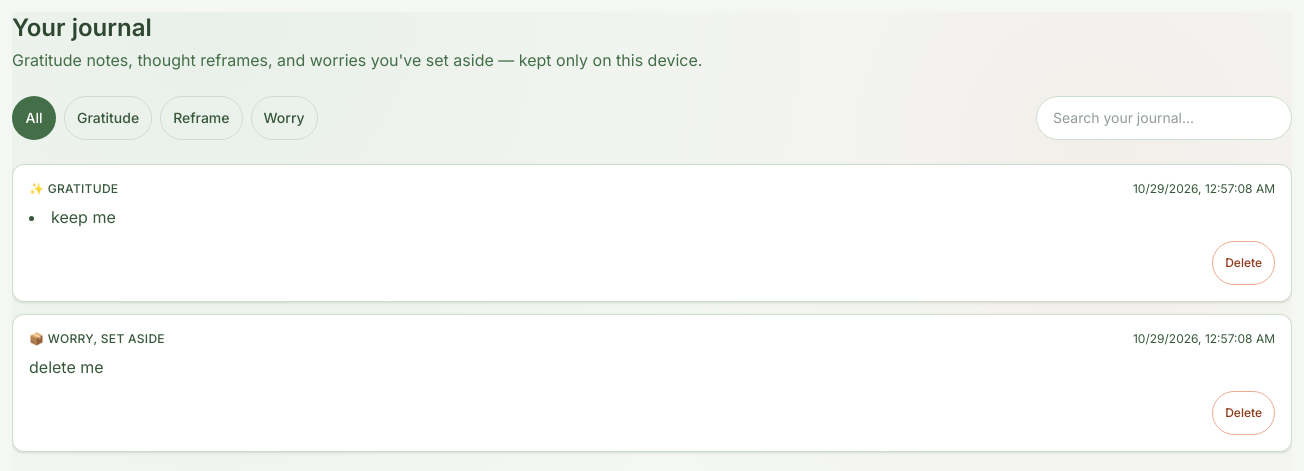
Scenario: Journal page › deleting entries › removes a single entry after a second, deliberate click
Step 1. Click the button with aria-label "delete this worry entry" → (1244, 413), box 1212,391 -> 1275,435
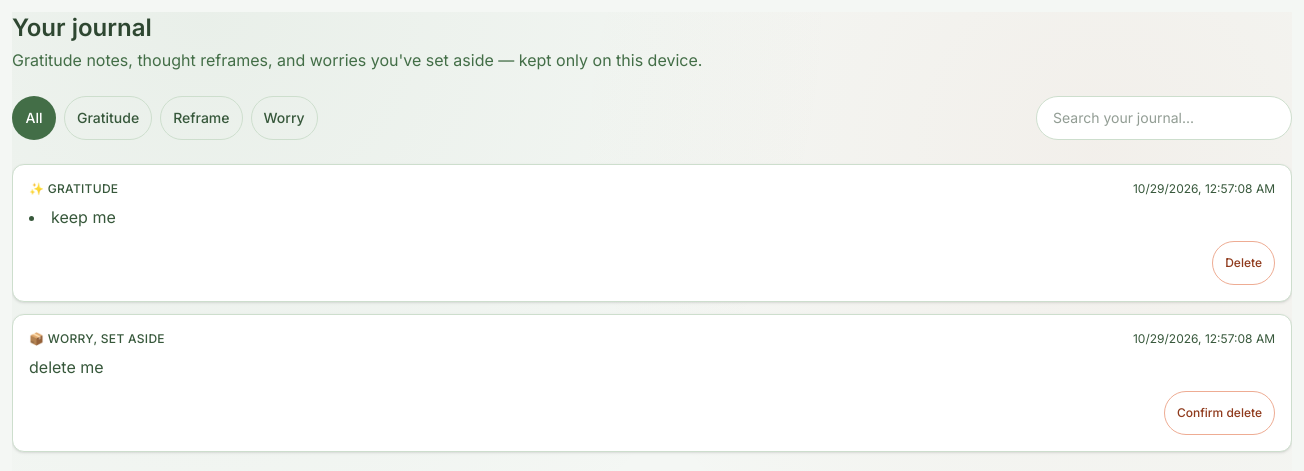
Step 2. Click the button "Confirm delete" → (1219, 413), box 1164,391 -> 1275,435
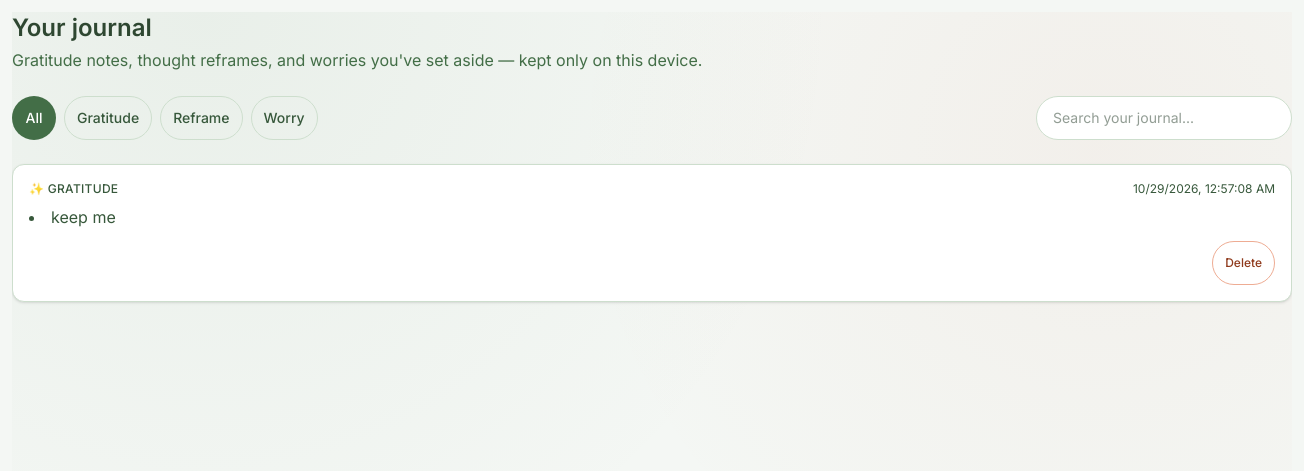
Expected: the list item "keep me" is shown, 51,207 -> 116,227
Expected: the text "delete me" is gone
